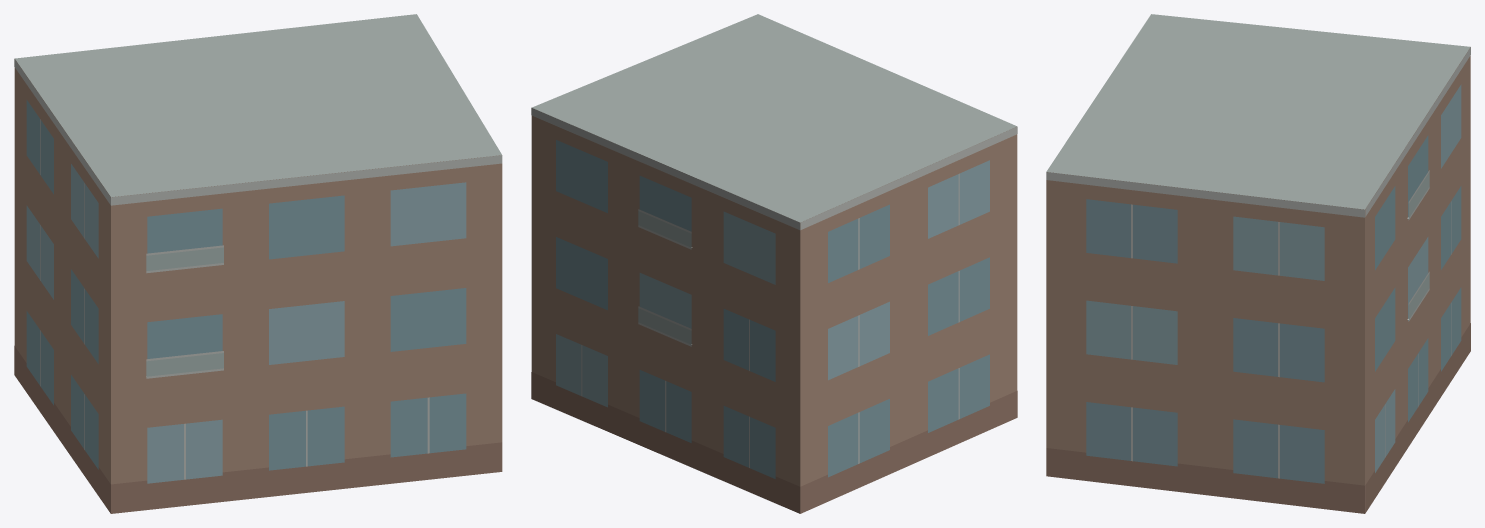
The model's file is survey-upis-32821546.glb.
The picture shows the model from 3 angles, left to right: view 1: azimuth 30°, elevation 25°; view 2: azimuth 150°, elevation 25°; view 3: azimuth 270°, elevation 25°; orthographic projection. The views are drawn at different scales.
Visible parts, largest first — view 1: survey-upis-32821546.tmp; view 2: survey-upis-32821546.tmp; view 3: survey-upis-32821546.tmp.
Part boxes in pixels (x1,y1,x2,y2): survey-upis-32821546.tmp: (14,14,502,513); survey-upis-32821546.tmp: (531,14,1017,513); survey-upis-32821546.tmp: (1046,14,1470,513).
Size of the model in its own units: 12.62 by 9.15 by 11.58.
